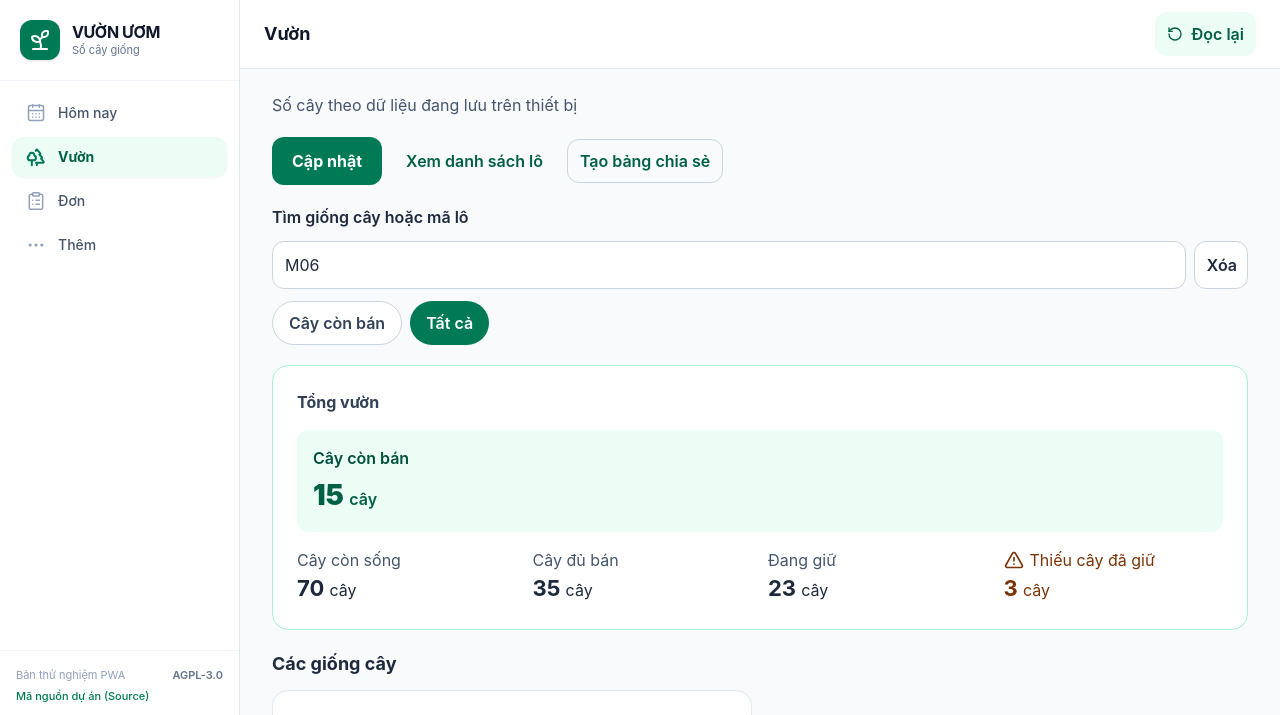
Test case: V2-A3 quick update composition (real Dexie) › no matches has clear-search action and never substitutes another selected batch
expect the element "Tổng vườn" is shown: met, box [272,365,1248,630]
Click the button "Cập nhật".
click(327, 161)  # box [272,137,382,185]
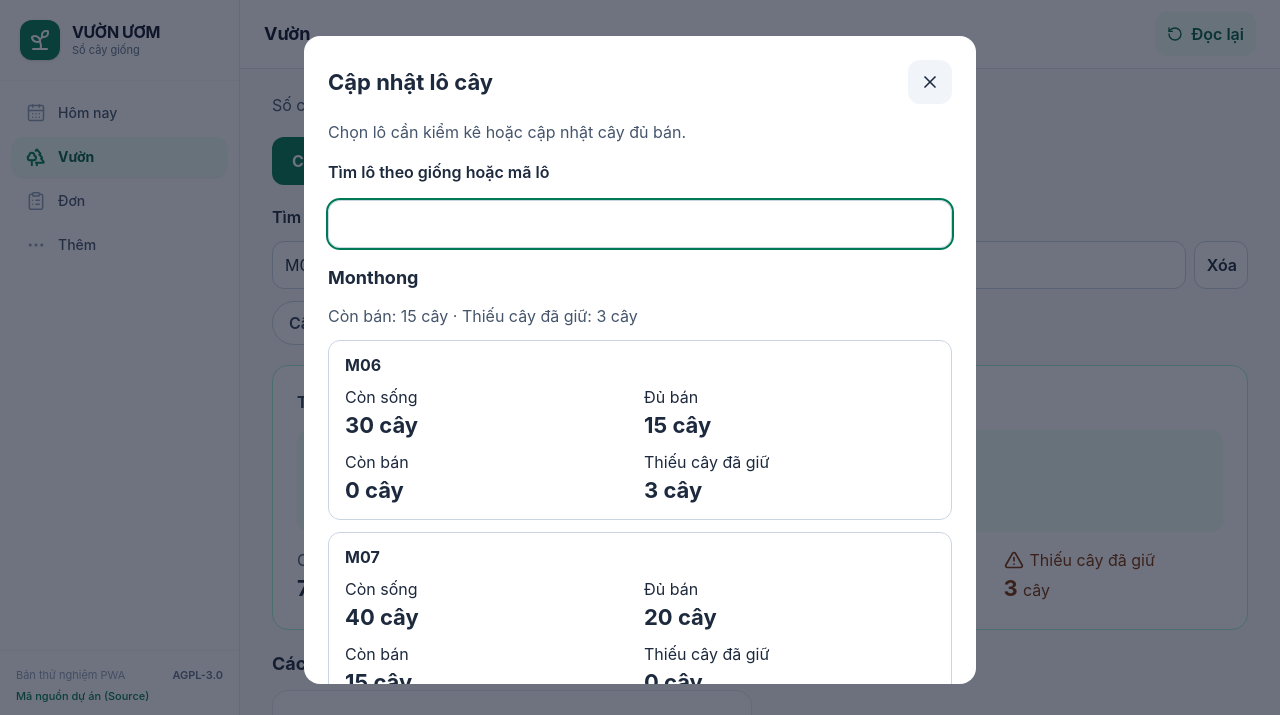
expect the button with aria-label "Chọn lô M06" is shown: met, box [328,340,952,520]
Type "unknown" into the search field labelled "Tìm lô theo giống hoặc mã lô".
click(640, 224); type("unknown")  # box [328,200,952,248]
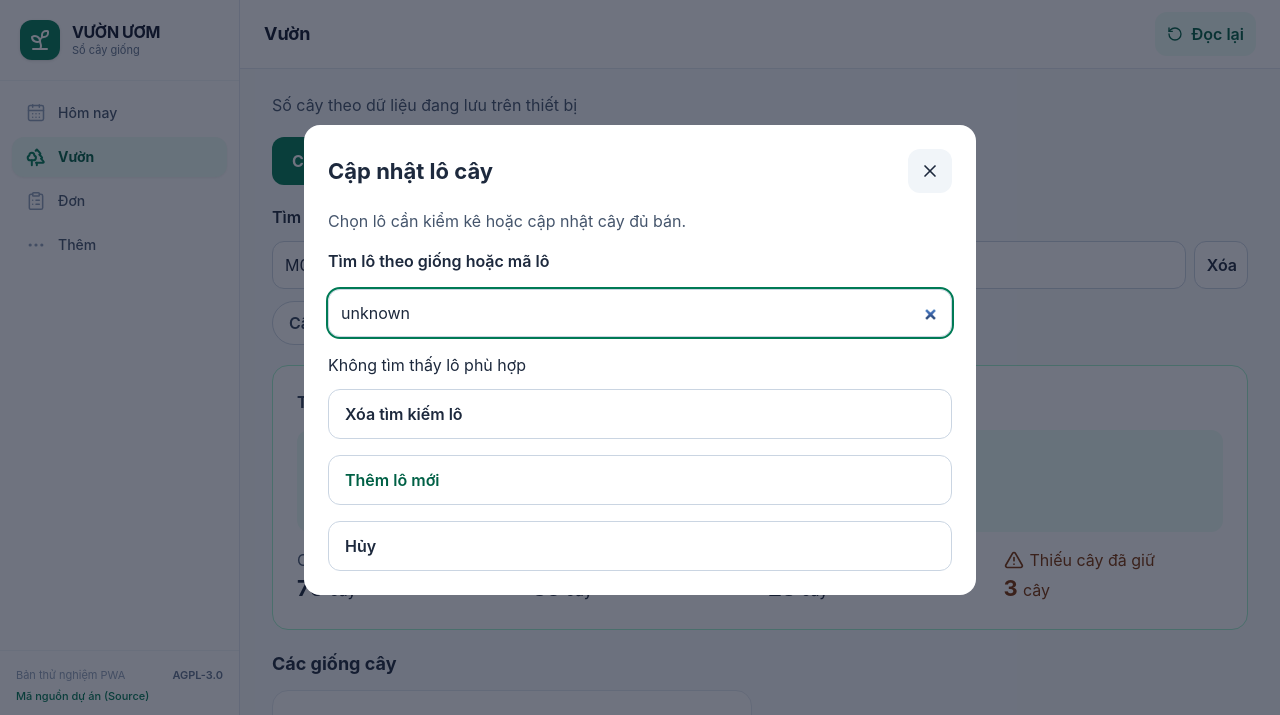
expect the text "Không tìm thấy lô phù hợp" is shown: met, box [328,355,526,375]
Click the button "Xóa tìm kiếm lô".
click(404, 414)  # box [328,389,952,439]
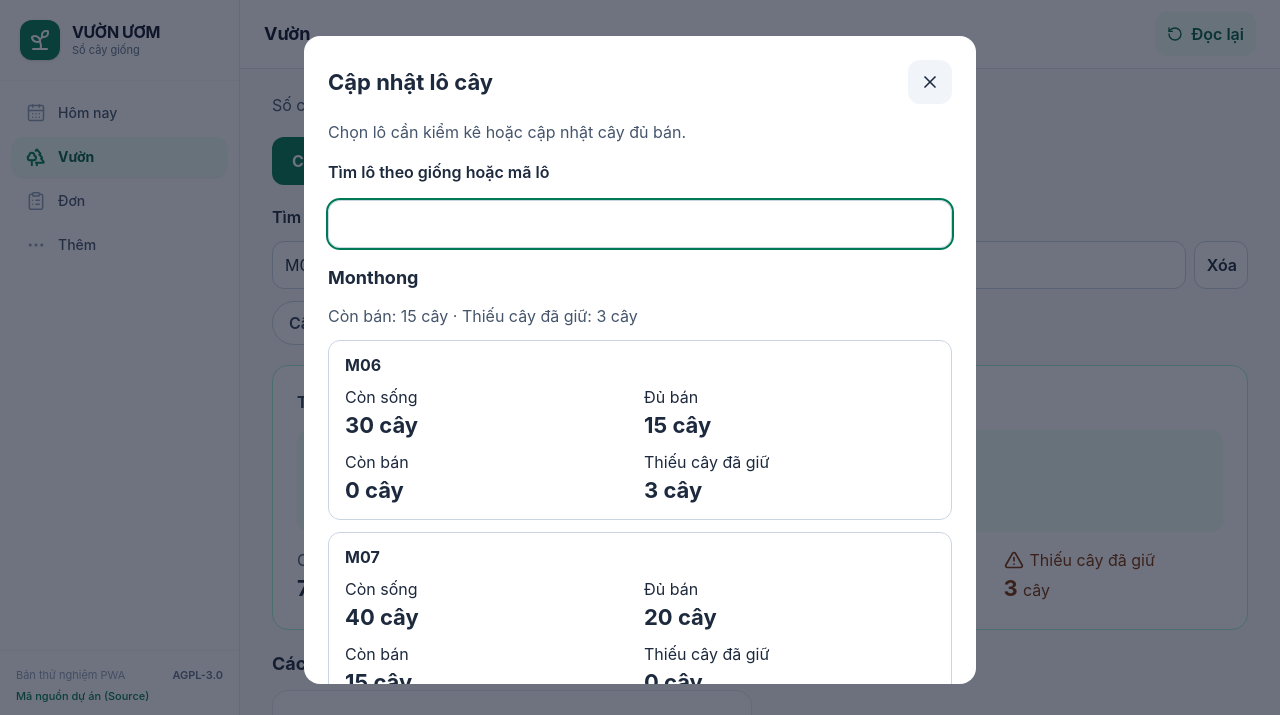
expect the button with aria-label "Chọn lô M06" is shown: met, box [328,340,952,520]
